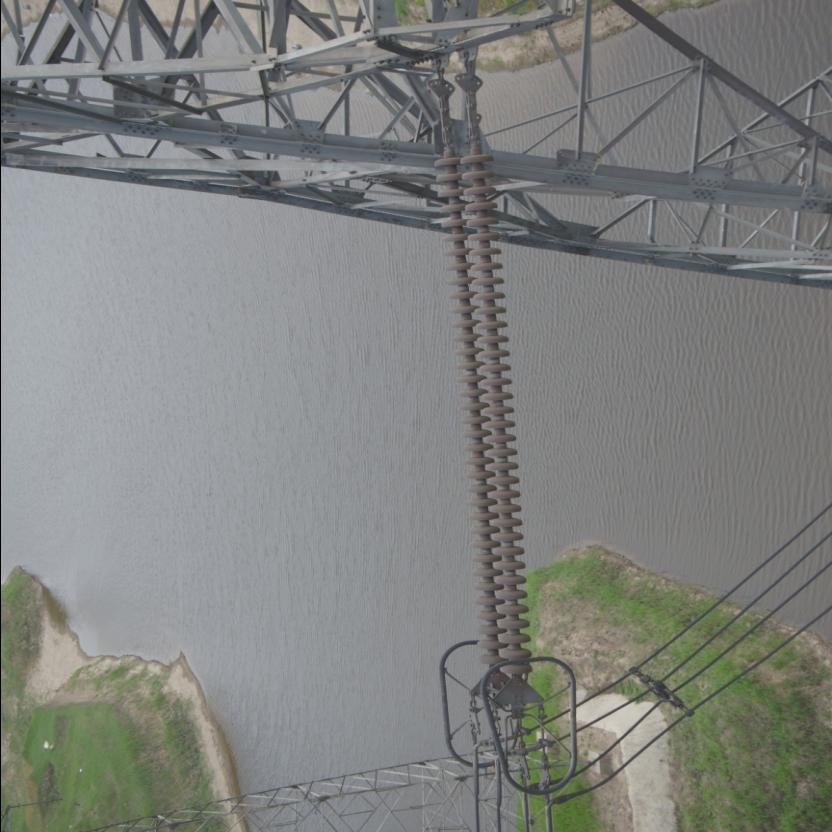insulator: (430, 119, 532, 696)
